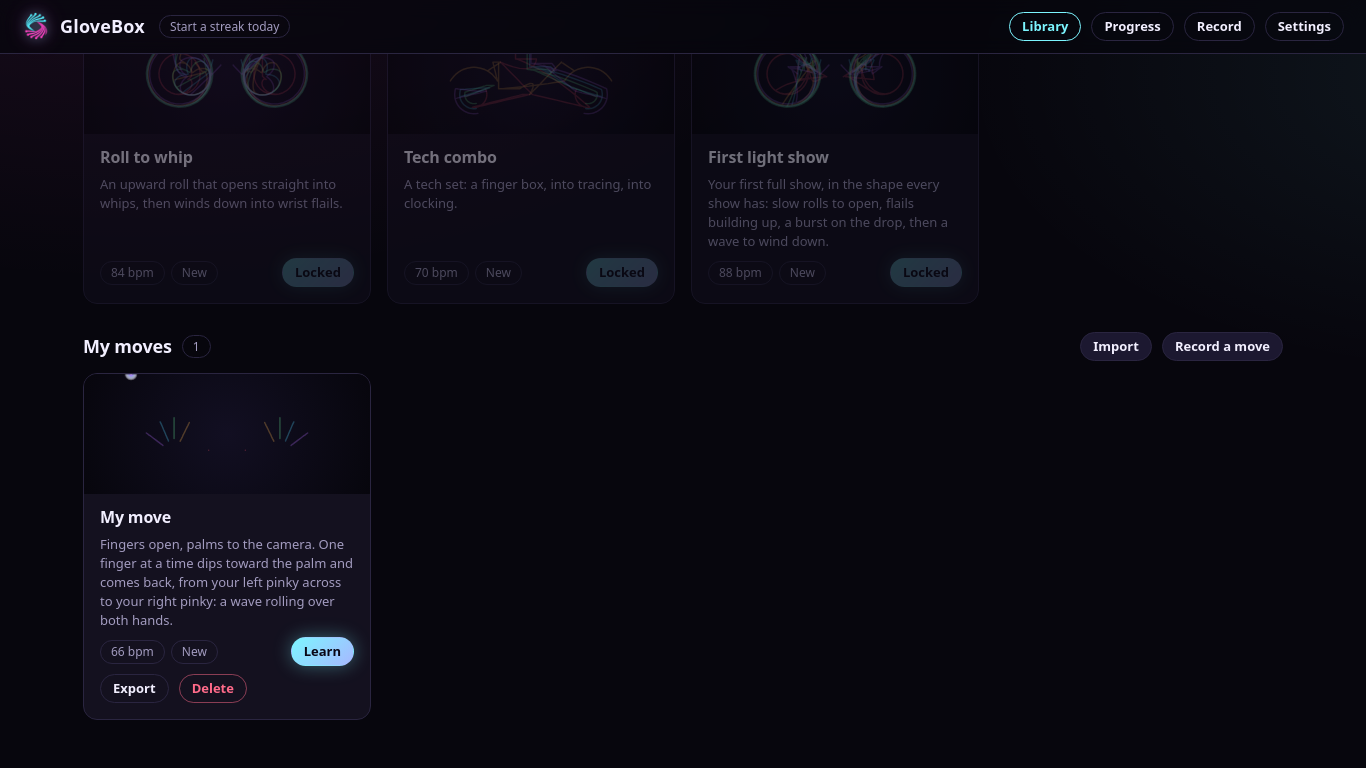
Test case: the library › My moves: empty, then a recorded move with export and delete
This screenshot has width=1366, height=768.
(page scrolled)
Click the button "Export" at (134, 689), box x1=100 y1=674 x2=169 y2=703
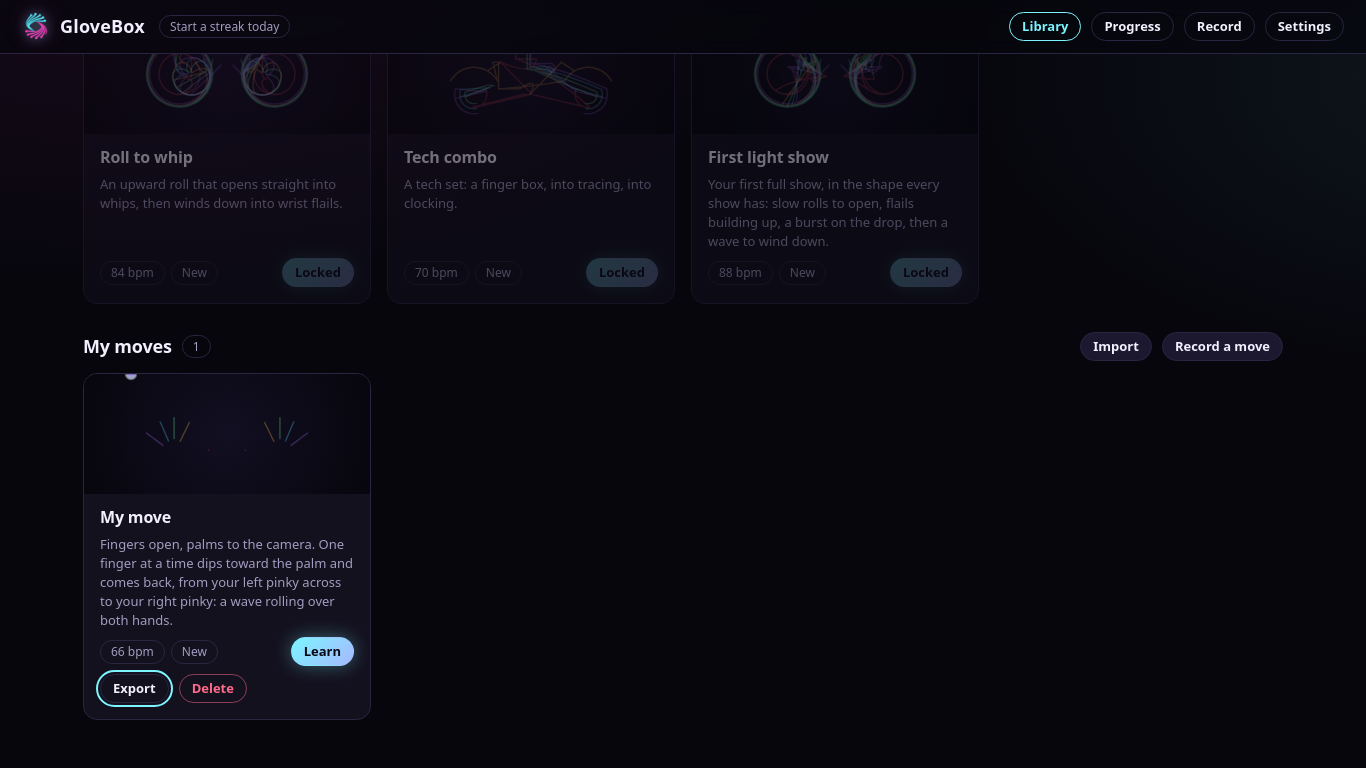
Click the button "Delete" at (213, 689), box x1=179 y1=674 x2=247 y2=703
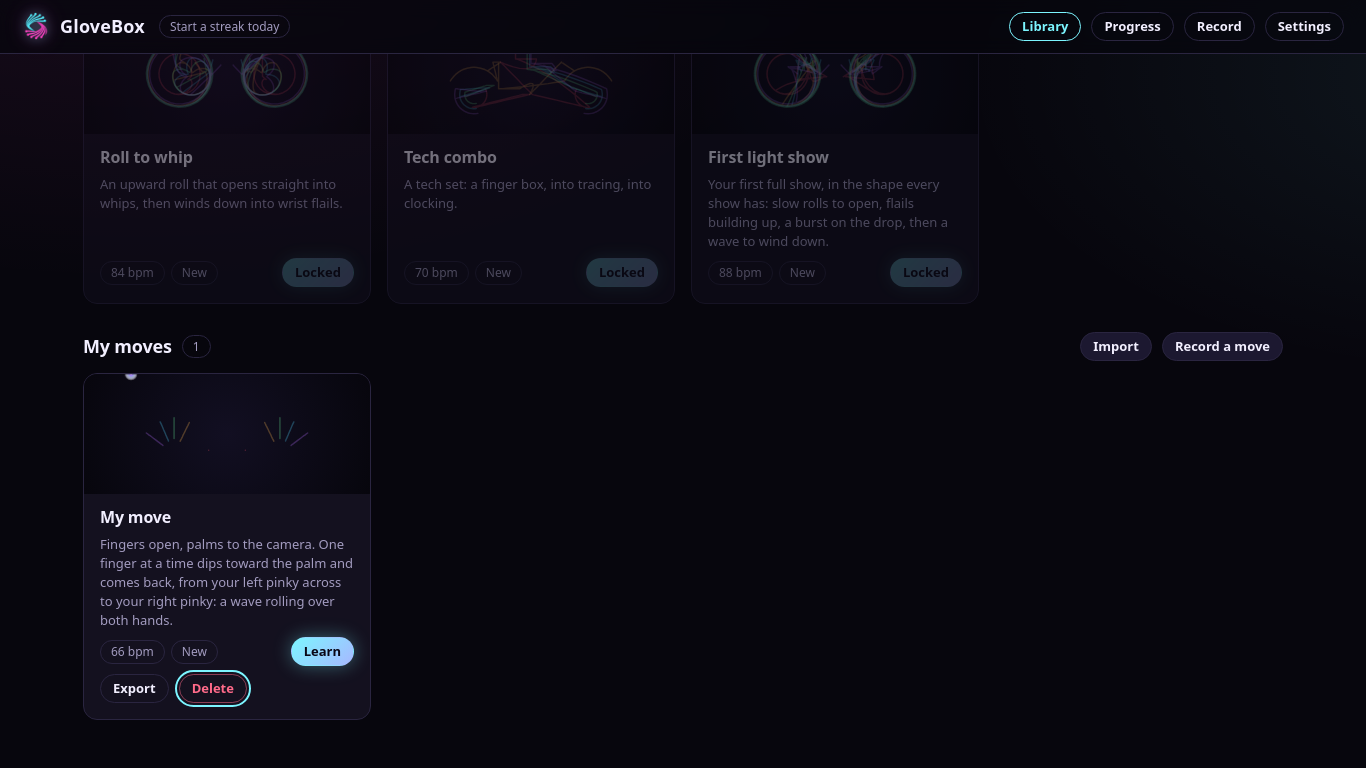
Check: the element "My move" is shown, box x1=83 y1=373 x2=371 y2=720
Click the button "Delete" at (213, 689), box x1=179 y1=674 x2=247 y2=703
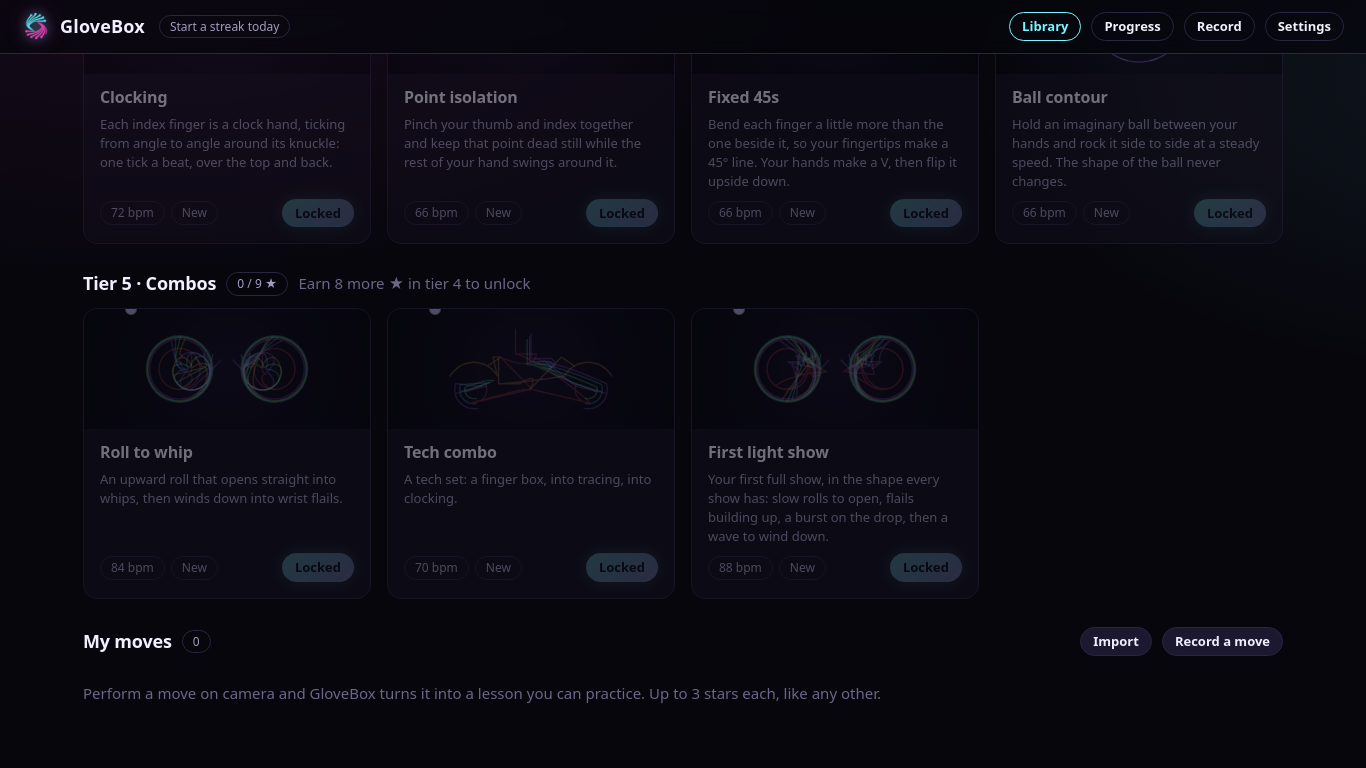
Check: the text "Perform a move on camera" is shown, box x1=83 y1=683 x2=692 y2=703
